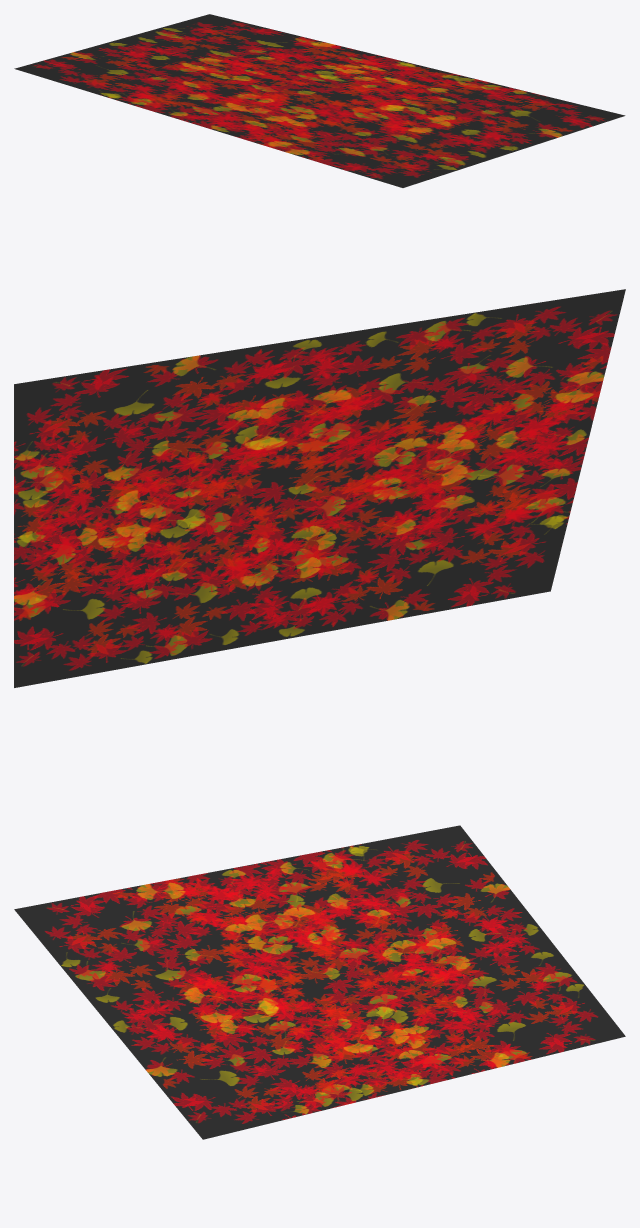
The model's file is OBJ_CourseAki_CurveFloor_2_5.fbx.
The picture shows the model from 3 angles, top to bottom: view 1: azimuth 30°, elevation 25°; view 2: azimuth 150°, elevation 25°; view 3: azimuth 270°, elevation 25°; orthographic projection. The views are drawn at different scales.
Visible parts, largest first — view 1: polySurface50; view 2: polySurface50; view 3: polySurface50.
Part boxes in pixels (<box>): polySurface50: <box>14,14,625,187</box>; polySurface50: <box>14,289,625,687</box>; polySurface50: <box>14,825,625,1139</box>.
Bounding box in the file's own units: 7 × 2 × 7.52.
1 material, 1 textured.
